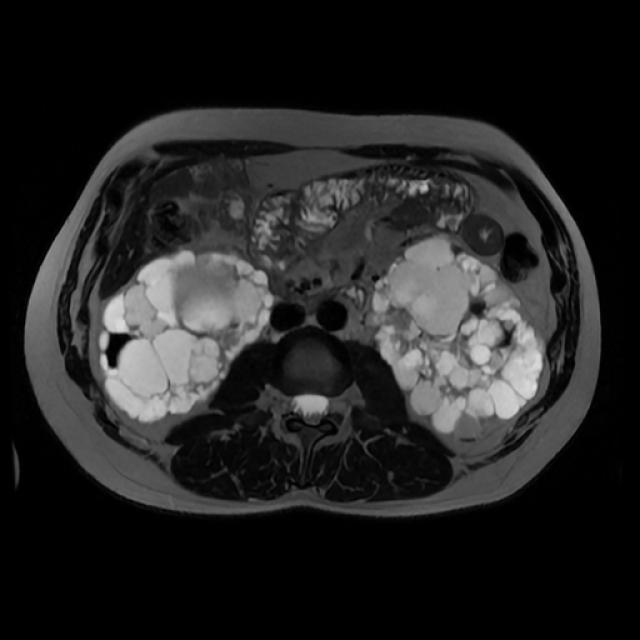sag: (99, 250, 275, 424)
sol: (367, 232, 546, 444)
